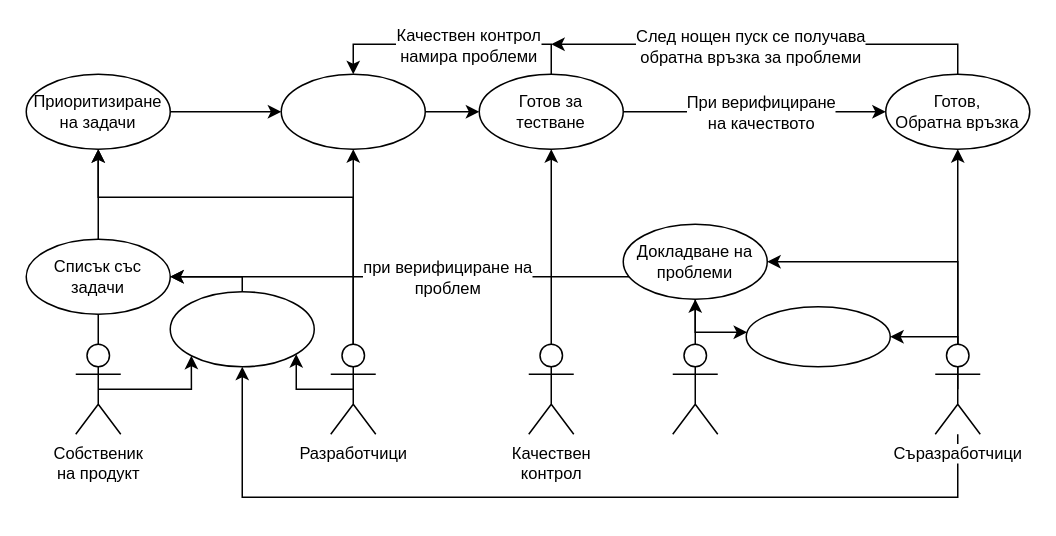
The diagram is 1056 pixels wide and 536 high, and some of its shapes have lost their labels. The box of each missing label's shape, as (x1, y1, x2, y2) in pixels:
Дискутиране на функционалност: (169, 290, 314, 367)
Обслужване: (671, 343, 718, 434)
Отговор на въпрос: (745, 305, 890, 367)
Работа по задача: (280, 73, 425, 149)
